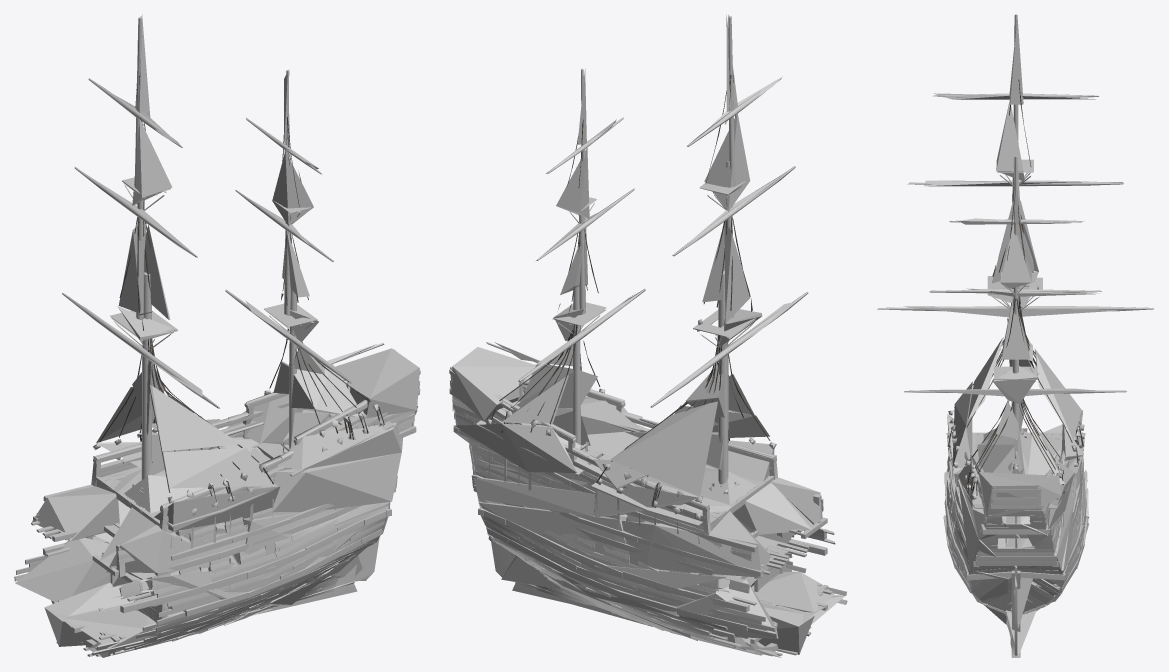
File: SM_ship_3.fbx
3 views of the same model, side by side, from view 1: azimuth 30°, elevation 25°; view 2: azimuth 150°, elevation 25°; view 3: azimuth 270°, elevation 25° (orthographic). The views are drawn at different scales.
Parts seen in each view (by area): view 1: SM_ship_3_ConvexHulls, SM_ship_3; view 2: SM_ship_3_ConvexHulls, SM_ship_3; view 3: SM_ship_3_ConvexHulls, SM_ship_3.
Boxes of the visible parts, left/top/right/bottom form: SM_ship_3_ConvexHulls: left=15, top=14, right=419, bottom=657; SM_ship_3: left=14, top=16, right=420, bottom=656; SM_ship_3_ConvexHulls: left=451, top=14, right=845, bottom=657; SM_ship_3: left=449, top=14, right=847, bottom=656; SM_ship_3_ConvexHulls: left=903, top=15, right=1123, bottom=656; SM_ship_3: left=877, top=14, right=1153, bottom=657.
Bounding box in the file's own units: 2211 × 1703 × 3736.
